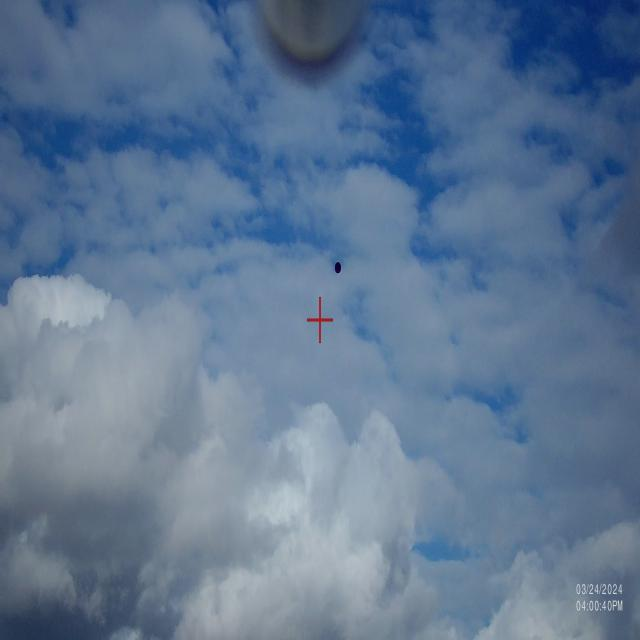entire: (327, 250, 345, 280)
